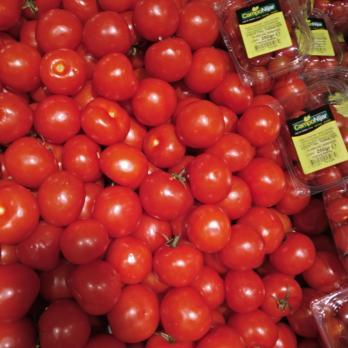Tomato: (0, 0, 312, 348)
